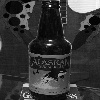beer: (24, 1, 72, 95)
